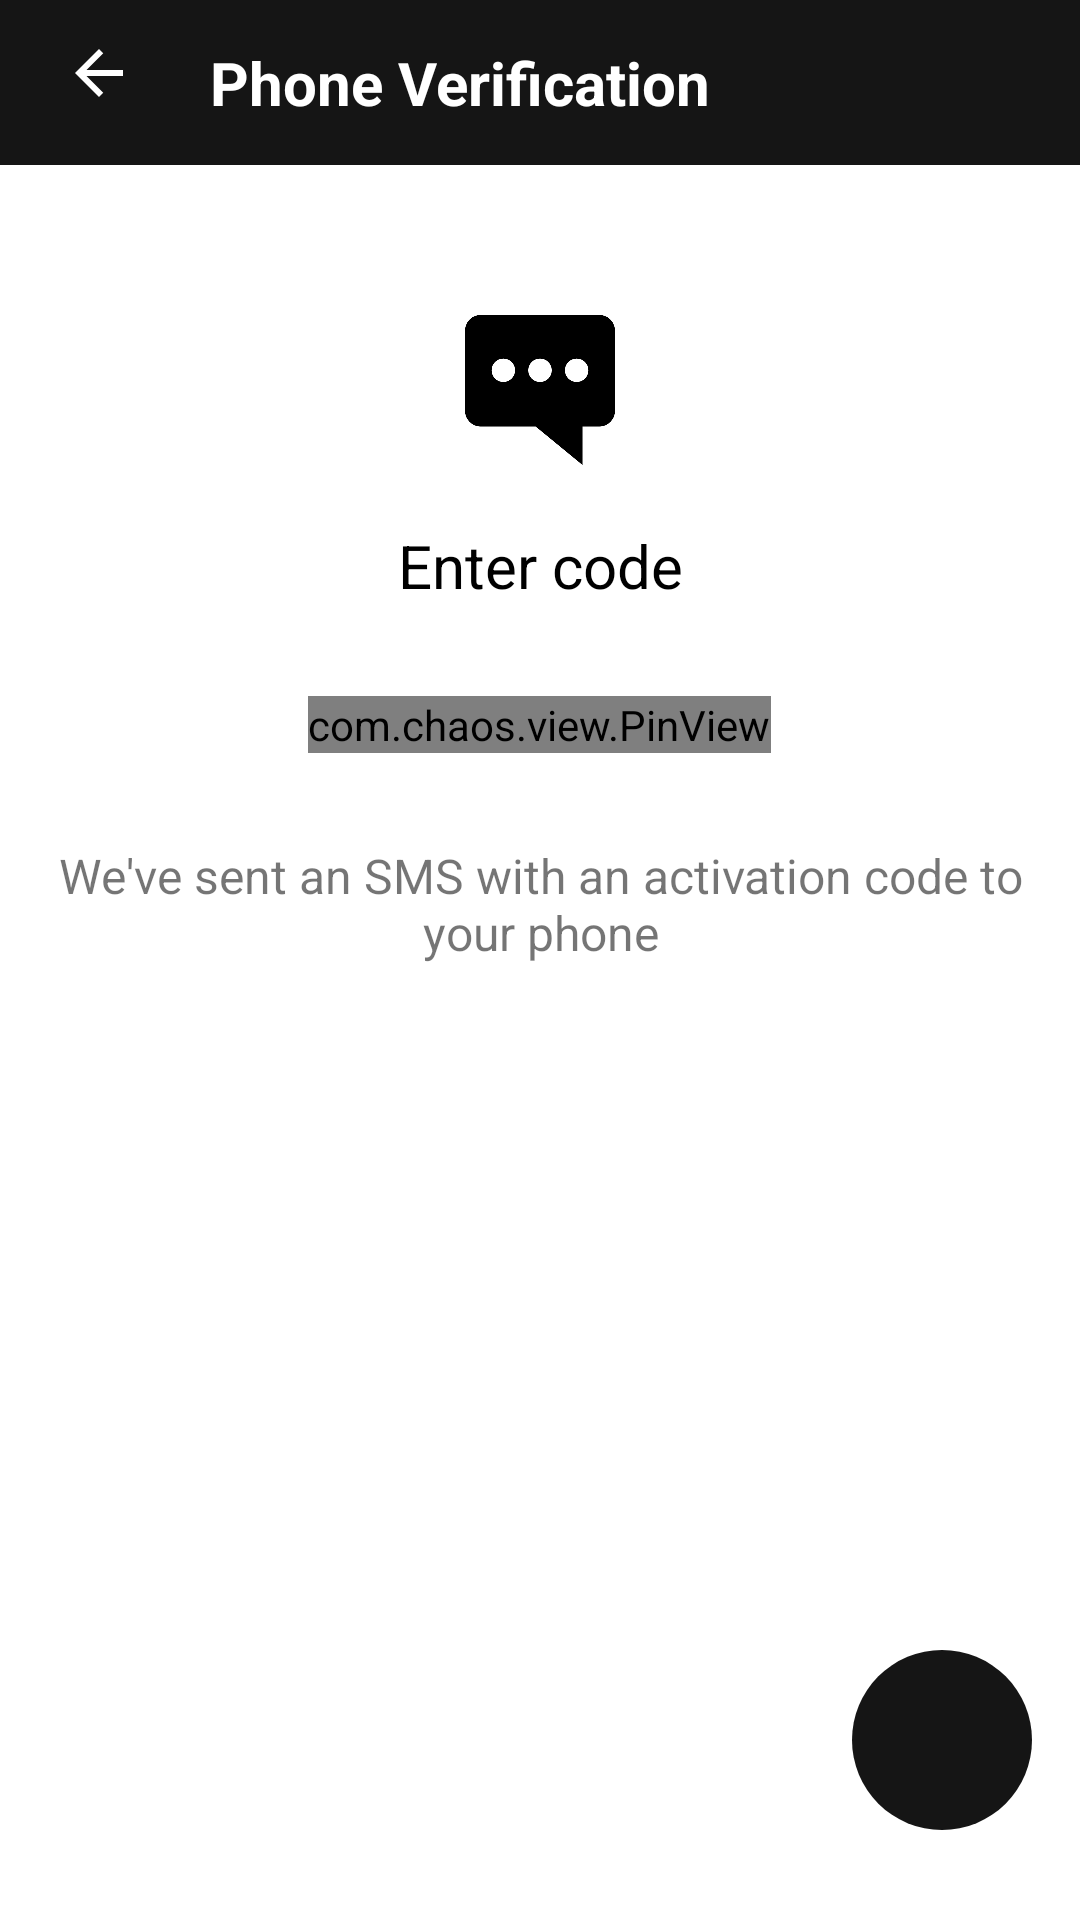

Named icons in this screenshot (1080x1920) and their centers, (x=x, y=y):
arrow back: (x=99, y=73)
